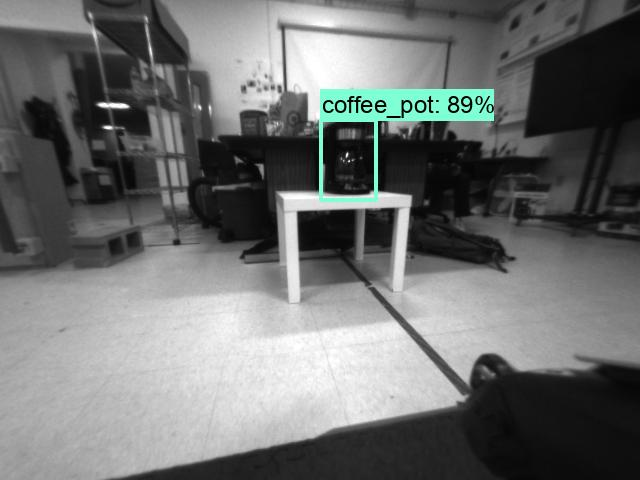coffee_pot: (320, 119, 373, 195)
